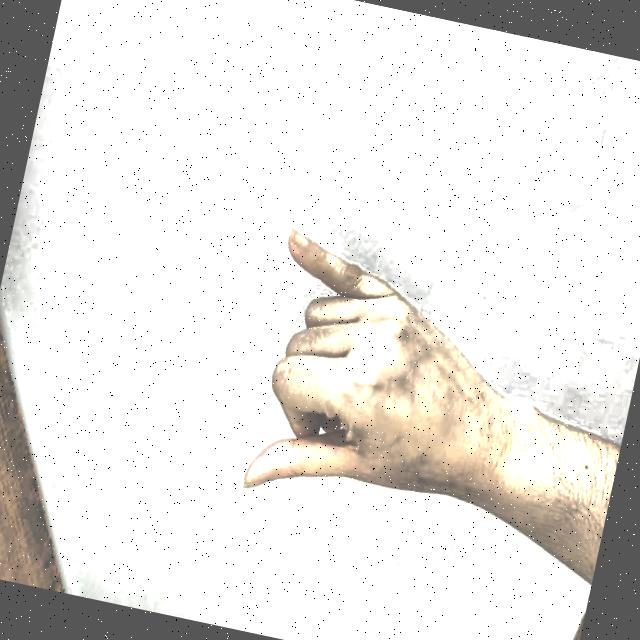Oi: (200, 190, 544, 563)
